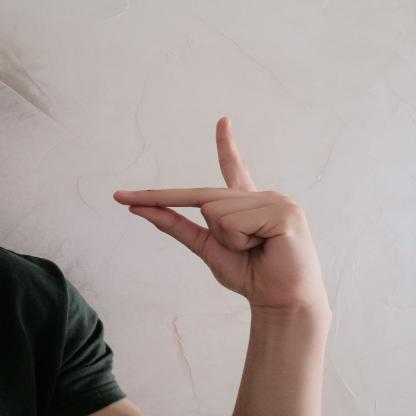TAA: (104, 109, 333, 312)
